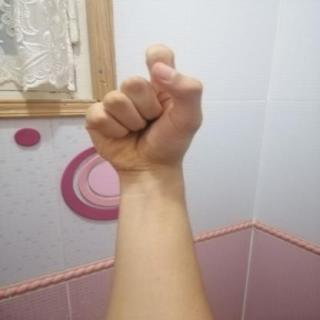FAA: (74, 38, 217, 181)
